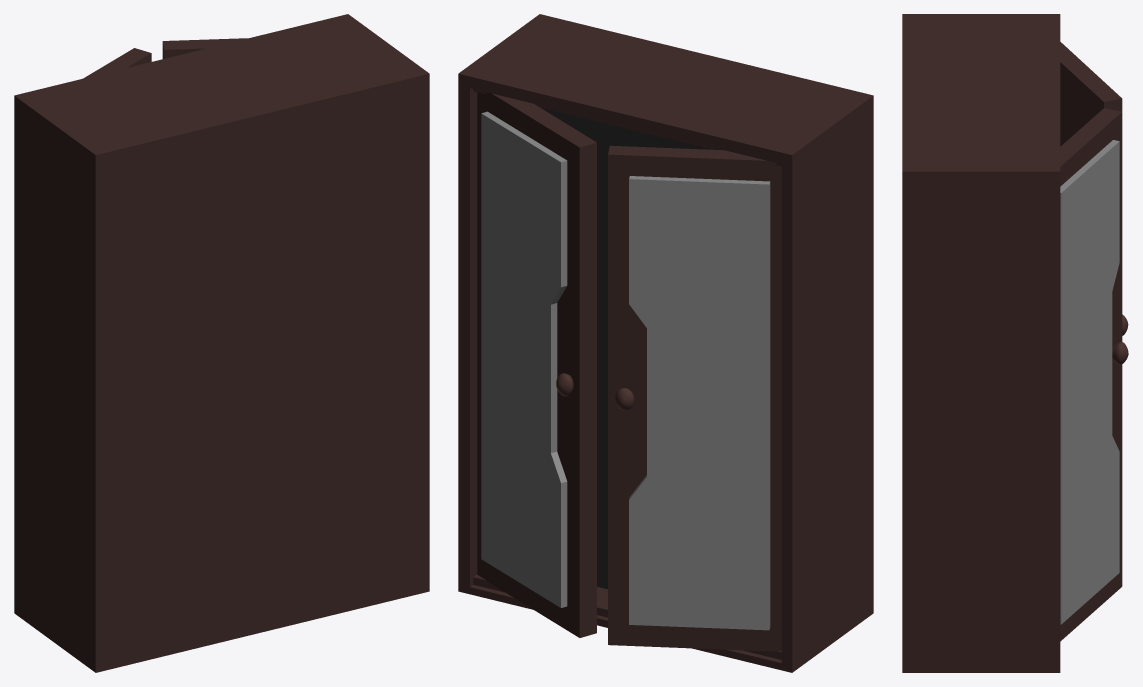
Rendered from Armoire4_3.fbx.
3 views of the same model, side by side, from view 1: azimuth 30°, elevation 25°; view 2: azimuth 150°, elevation 25°; view 3: azimuth 270°, elevation 25° (orthographic). The views are drawn at different scales.
Parts seen in each view (by area): view 1: pCube1045, pCube1049, pCube1048; view 2: pCube1045, pCube1047, pCube1046, pCube1048, pCube1049, pCube1044; view 3: pCube1045, pCube1046, pCube1049, pCube1048.
Boxes of the visible parts, x1,y1,x2,y2 form: pCube1045: (14, 14, 429, 672); pCube1049: (162, 38, 247, 58); pCube1048: (83, 48, 151, 78); pCube1045: (458, 14, 873, 672); pCube1047: (629, 176, 770, 630); pCube1046: (481, 111, 567, 607); pCube1048: (608, 145, 781, 651); pCube1049: (477, 92, 596, 637); pCube1044: (540, 107, 711, 589); pCube1045: (902, 14, 1060, 672); pCube1046: (1060, 140, 1119, 624); pCube1049: (1060, 108, 1122, 641); pCube1048: (1060, 42, 1122, 146).
Bounding box in the file's own units: 83 × 123 × 50.29.
